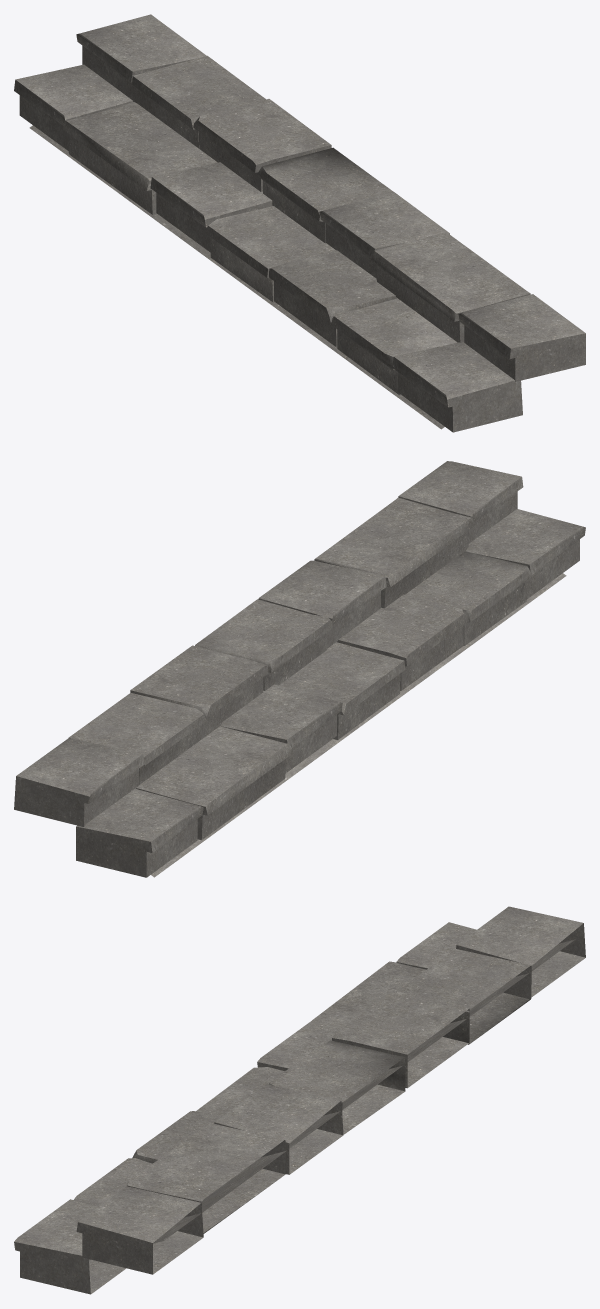
Rendered from SM_Stairs_A_02.fbx.
The picture shows the model from 3 angles, top to bottom: view 1: azimuth 30°, elevation 25°; view 2: azimuth 150°, elevation 25°; view 3: azimuth 330°, elevation 25°; orthographic projection.
Visible parts, largest first — view 1: SM_Stairs_A_02_LOD0; view 2: SM_Stairs_A_02_LOD0; view 3: SM_Stairs_A_02_LOD0.
Boxes of the visible parts, x1,y1,x2,y2 form: SM_Stairs_A_02_LOD0: (14,14,585,432); SM_Stairs_A_02_LOD0: (14,461,585,877); SM_Stairs_A_02_LOD0: (14,906,585,1294).
Size of the model in its own units: 114 by 600 by 58.15.
